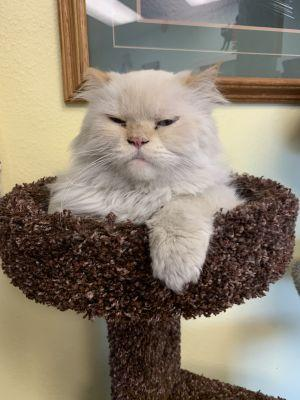persian: (72, 46, 225, 190)
